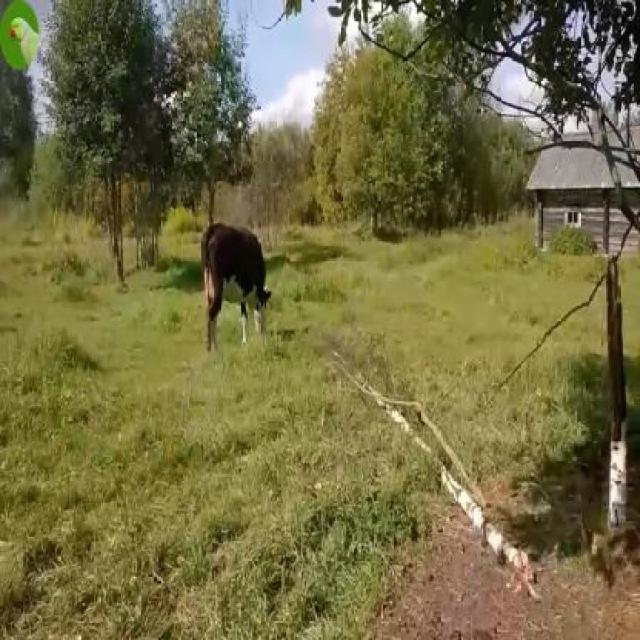Cow: (200, 227, 268, 356)
